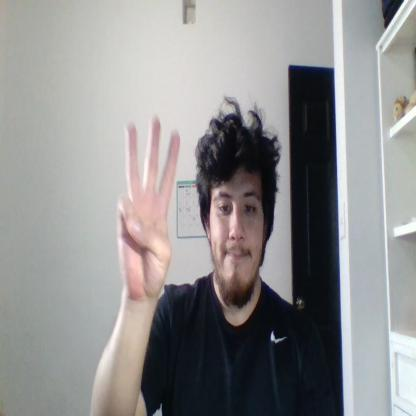W: (118, 118, 180, 298)
